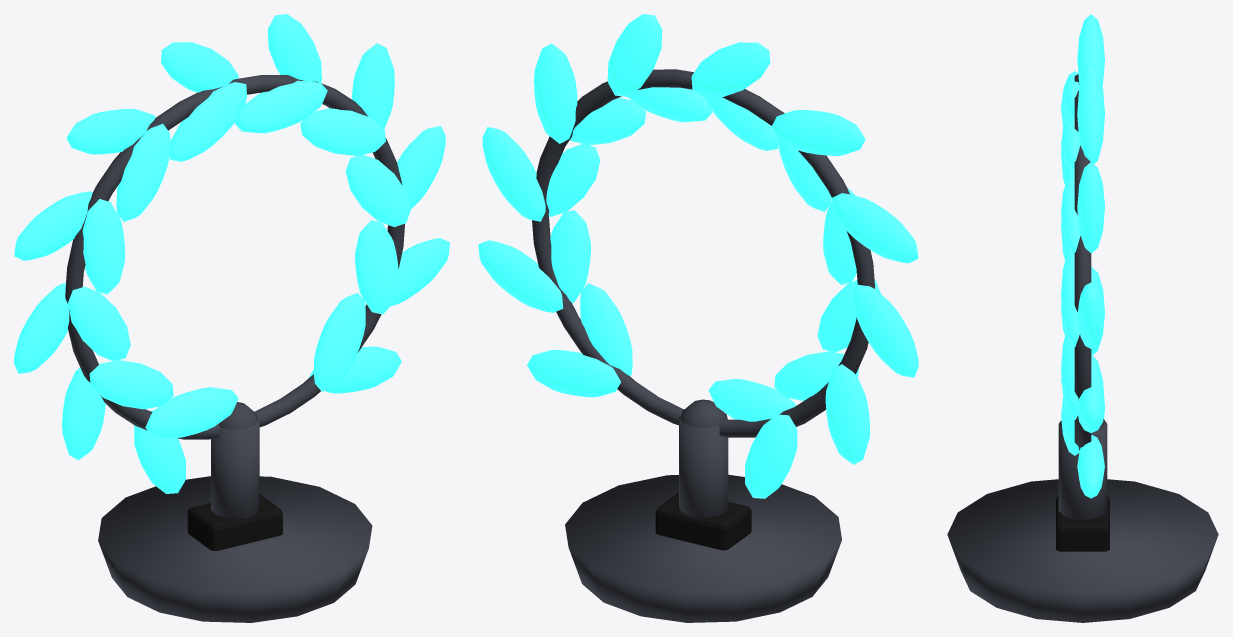
Rendered from laurel.glb.
The picture shows the model from 3 angles, left to right: view 1: azimuth 30°, elevation 25°; view 2: azimuth 150°, elevation 25°; view 3: azimuth 270°, elevation 25°; orthographic projection. The views are drawn at different scales.
Visible parts, largest first — view 1: laurel_base, laurel_aro, laurel_pie, laurel_hoja_0_0, laurel_hoja_5_0, laurel_hoja_6_0, laurel_hoja_10_0, laurel_caja, laurel_hoja_1_0, laurel_hoja_4_0, laurel_hoja_7_0, laurel_hoja_9_0 (+15 smaller); view 2: laurel_base, laurel_aro, laurel_pie, laurel_hoja_8_1, laurel_hoja_2_1, laurel_hoja_7_1, laurel_hoja_1_1, laurel_hoja_9_1, laurel_hoja_3_1, laurel_caja, laurel_hoja_6_1, laurel_hoja_0_1 (+15 smaller); view 3: laurel_base, laurel_aro, laurel_pie, laurel_hoja_4_1, laurel_caja, laurel_hoja_3_1, laurel_hoja_2_1, laurel_hoja_0_1, laurel_hoja_5_1, laurel_hoja_2_0, laurel_hoja_3_0, laurel_hoja_1_0 (+5 smaller).
Part boxes in pixels (x1,y1,x2,y2): laurel_base: (98, 476, 372, 622); laurel_aro: (65, 75, 404, 439); laurel_pie: (211, 418, 259, 518); laurel_hoja_0_0: (314, 292, 365, 391); laurel_hoja_5_0: (169, 82, 246, 161); laurel_hoja_6_0: (116, 124, 170, 221); laurel_hoja_10_0: (145, 387, 238, 438); laurel_caja: (187, 494, 282, 550); laurel_hoja_1_0: (355, 220, 398, 314); laurel_hoja_4_0: (234, 80, 327, 133); laurel_hoja_7_0: (82, 199, 125, 294); laurel_hoja_9_0: (89, 360, 173, 409); laurel_base: (565, 474, 841, 622); laurel_aro: (532, 69, 874, 437); laurel_pie: (679, 413, 728, 517); laurel_hoja_8_1: (853, 284, 918, 377); laurel_hoja_2_1: (482, 127, 545, 221); laurel_hoja_7_1: (832, 193, 918, 263); laurel_hoja_1_1: (478, 240, 563, 312); laurel_hoja_9_1: (825, 364, 869, 464); laurel_hoja_3_1: (534, 43, 577, 143); laurel_caja: (655, 492, 751, 550); laurel_hoja_6_1: (771, 110, 865, 155); laurel_hoja_0_1: (527, 349, 620, 397); laurel_base: (947, 479, 1218, 622); laurel_aro: (1074, 74, 1091, 453); laurel_pie: (1058, 420, 1107, 519); laurel_hoja_4_1: (1077, 61, 1104, 163); laurel_caja: (1056, 495, 1109, 551); laurel_hoja_3_1: (1077, 162, 1104, 253); laurel_hoja_2_1: (1077, 282, 1104, 348); laurel_hoja_0_1: (1077, 434, 1104, 498); laurel_hoja_5_1: (1077, 14, 1104, 84); laurel_hoja_2_0: (1061, 250, 1079, 346); laurel_hoja_3_0: (1061, 171, 1080, 254); laurel_hoja_1_0: (1061, 334, 1078, 419).
Size of the model in its own units: 0.3638 by 0.4319 by 0.2.
